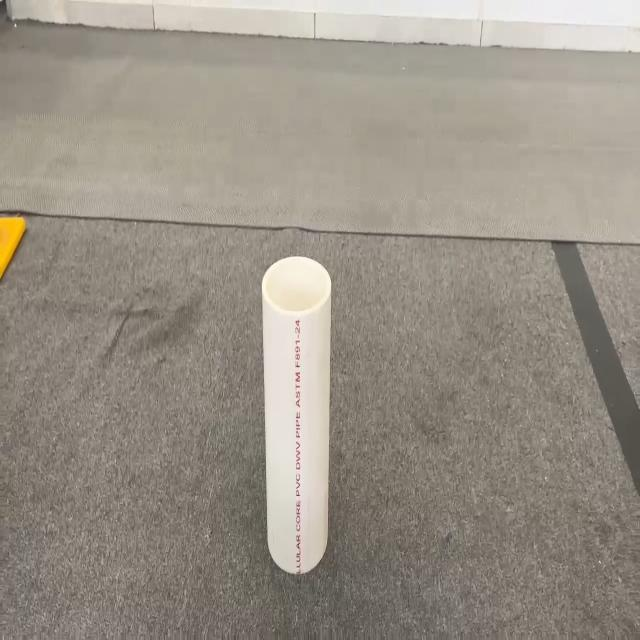coral: (260, 254, 332, 574)
